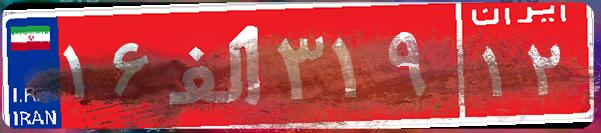1: (330, 28, 385, 110), (57, 26, 110, 107), (475, 38, 525, 113)
2: (525, 38, 570, 115)
3: (273, 28, 330, 110)
6: (110, 28, 158, 105)
9: (385, 28, 445, 110)
الف: (158, 15, 273, 115)
